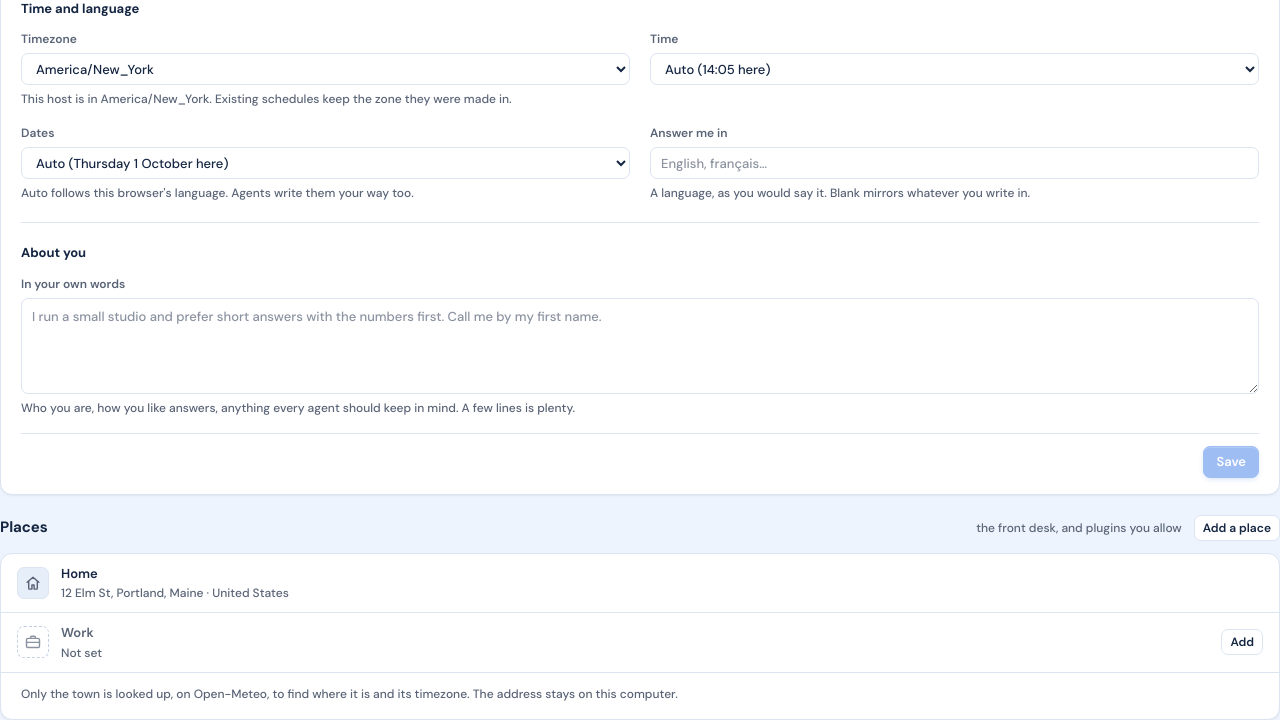
Test case: You › removes a place from its sheet
(page scrolled)
Click the element named "Home: edit": x=640, y=583 [1, 554, 1279, 613]
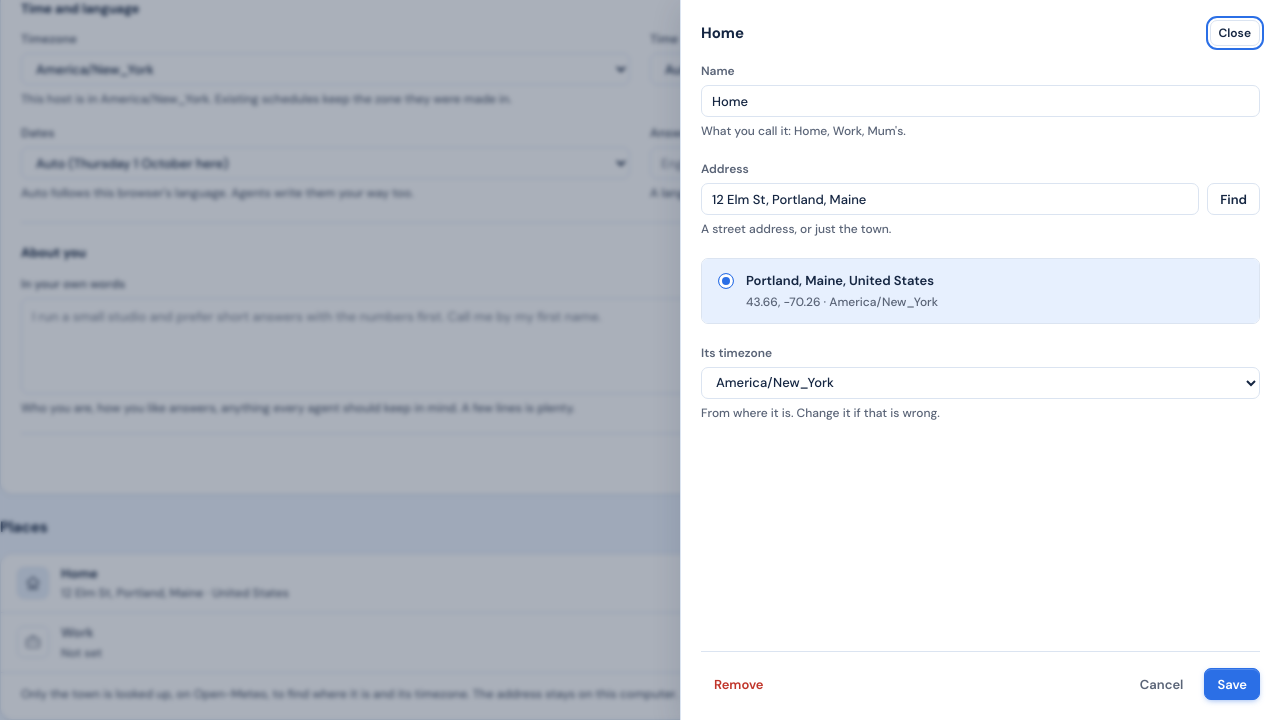
Click the button "Remove": x=739, y=684 [701, 668, 776, 700]
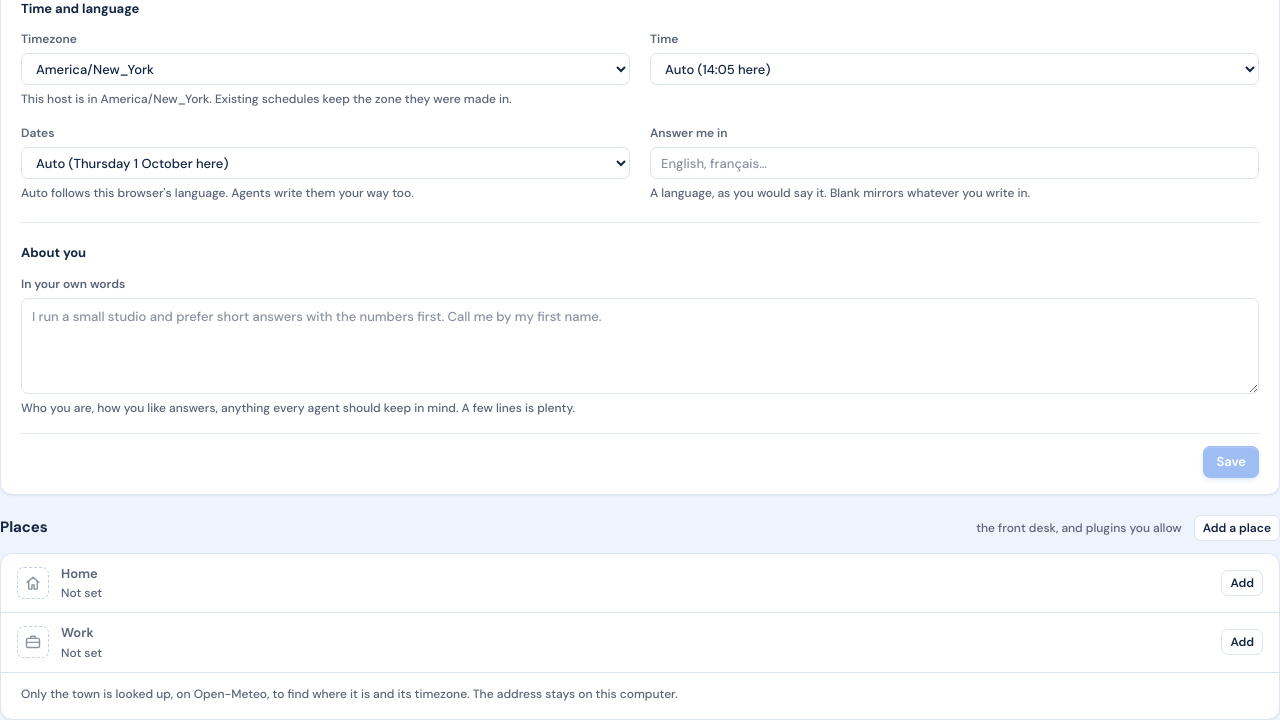
Result: the element named "Home: add" is shown at [1, 554, 1279, 613]
